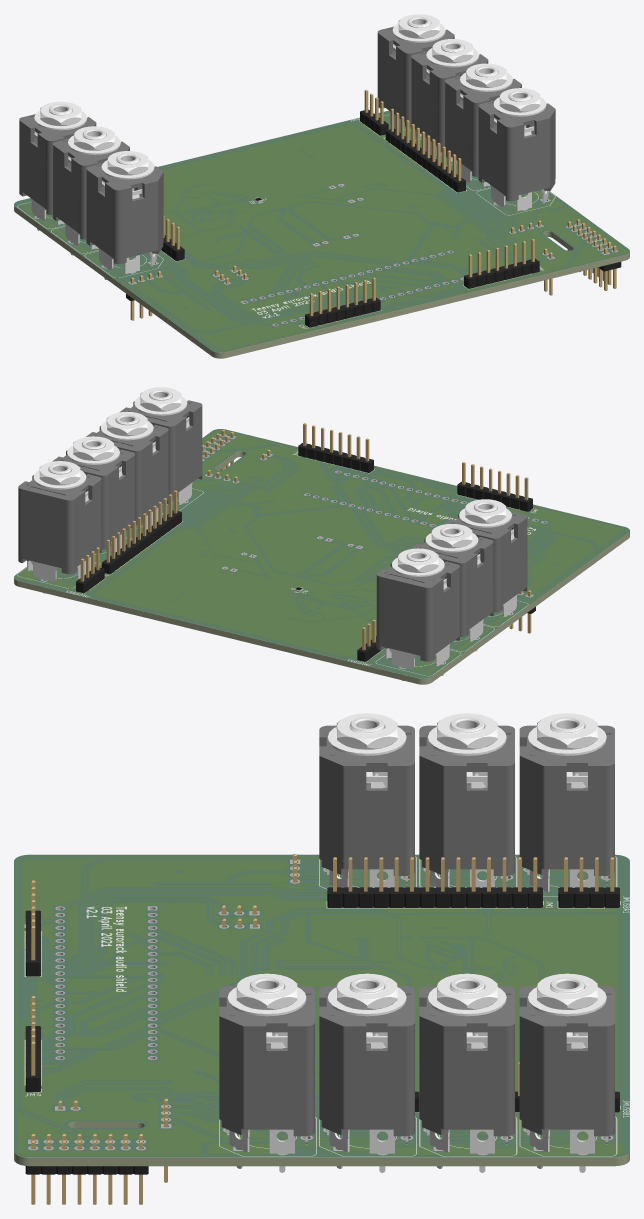
Rendered from board.glb.
The picture shows the model from 3 angles, top to bottom: view 1: azimuth 30°, elevation 25°; view 2: azimuth 150°, elevation 25°; view 3: azimuth 270°, elevation 25°; orthographic projection. The views are drawn at different scales.
Visible parts, largest first — view 1: board_soldermask, board_copper, ACJS-MV35-5_Shrinkwrap_1 (×7), board_PCB, PinHeader_1x08_P254mm_Vertical (×2), PinHeader_1x14_P254mm_Vertical (×2), board_pad, board_silkscreen, PinHeader_2x08_P254mm_Vertical, PinHeader_1x04_P254mm_Vertical; view 2: board_soldermask, ACJS-MV35-5_Shrinkwrap_1 (×7), board_copper, board_PCB, PinHeader_1x08_P254mm_Vertical (×2), PinHeader_1x14_P254mm_Vertical, PinHeader_1x04_P254mm_Vertical (×2), board_pad, board_silkscreen; view 3: board_soldermask, ACJS-MV35-5_Shrinkwrap_1 (×7), board_copper, board_PCB, PinHeader_1x14_P254mm_Vertical, board_pad, board_silkscreen, PinHeader_2x08_P254mm_Vertical, PinHeader_1x08_P254mm_Vertical (×2), PinHeader_1x04_P254mm_Vertical.
Boxes of the visible parts, x1=… form: board_soldermask: x1=14, y1=110, x2=629, y2=352; board_copper: x1=22, y1=114, x2=626, y2=351; ACJS-MV35-5_Shrinkwrap_1 (×7): x1=19, y1=14, x2=555, y2=279; board_PCB: x1=14, y1=111, x2=629, y2=358; PinHeader_1x08_P254mm_Vertical (×2): x1=305, y1=239, x2=539, y2=327; PinHeader_1x14_P254mm_Vertical (×2): x1=161, y1=108, x2=465, y2=260; board_pad: x1=34, y1=136, x2=617, y2=326; board_silkscreen: x1=17, y1=114, x2=555, y2=328; PinHeader_2x08_P254mm_Vertical: x1=567, y1=219, x2=621, y2=290; PinHeader_1x04_P254mm_Vertical: x1=360, y1=89, x2=388, y2=135; board_soldermask: x1=14, y1=429, x2=629, y2=678; ACJS-MV35-5_Shrinkwrap_1 (×7): x1=18, y1=387, x2=527, y2=680; board_copper: x1=17, y1=430, x2=626, y2=673; board_PCB: x1=14, y1=429, x2=629, y2=684; PinHeader_1x08_P254mm_Vertical (×2): x1=298, y1=423, x2=532, y2=511; PinHeader_1x14_P254mm_Vertical: x1=101, y1=490, x2=181, y2=574; PinHeader_1x04_P254mm_Vertical (×2): x1=76, y1=547, x2=382, y2=661; board_pad: x1=30, y1=434, x2=547, y2=668; board_silkscreen: x1=17, y1=450, x2=538, y2=676; board_soldermask: x1=14, y1=854, x2=629, y2=1157; ACJS-MV35-5_Shrinkwrap_1 (×7): x1=219, y1=713, x2=614, y2=1172; board_copper: x1=16, y1=857, x2=622, y2=1155; board_PCB: x1=14, y1=855, x2=629, y2=1165; PinHeader_1x14_P254mm_Vertical: x1=327, y1=857, x2=542, y2=907; board_pad: x1=28, y1=859, x2=613, y2=1155; board_silkscreen: x1=24, y1=856, x2=629, y2=1156; PinHeader_2x08_P254mm_Vertical: x1=25, y1=1134, x2=148, y2=1204; PinHeader_1x08_P254mm_Vertical (×2): x1=25, y1=880, x2=40, y2=1091; PinHeader_1x04_P254mm_Vertical: x1=558, y1=857, x2=619, y2=907.
Size of the model in its own units: 0.1181 by 0.038 by 0.1016.
